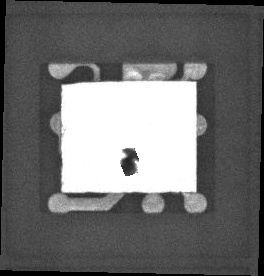DIE_INK: (115, 155, 132, 183)
